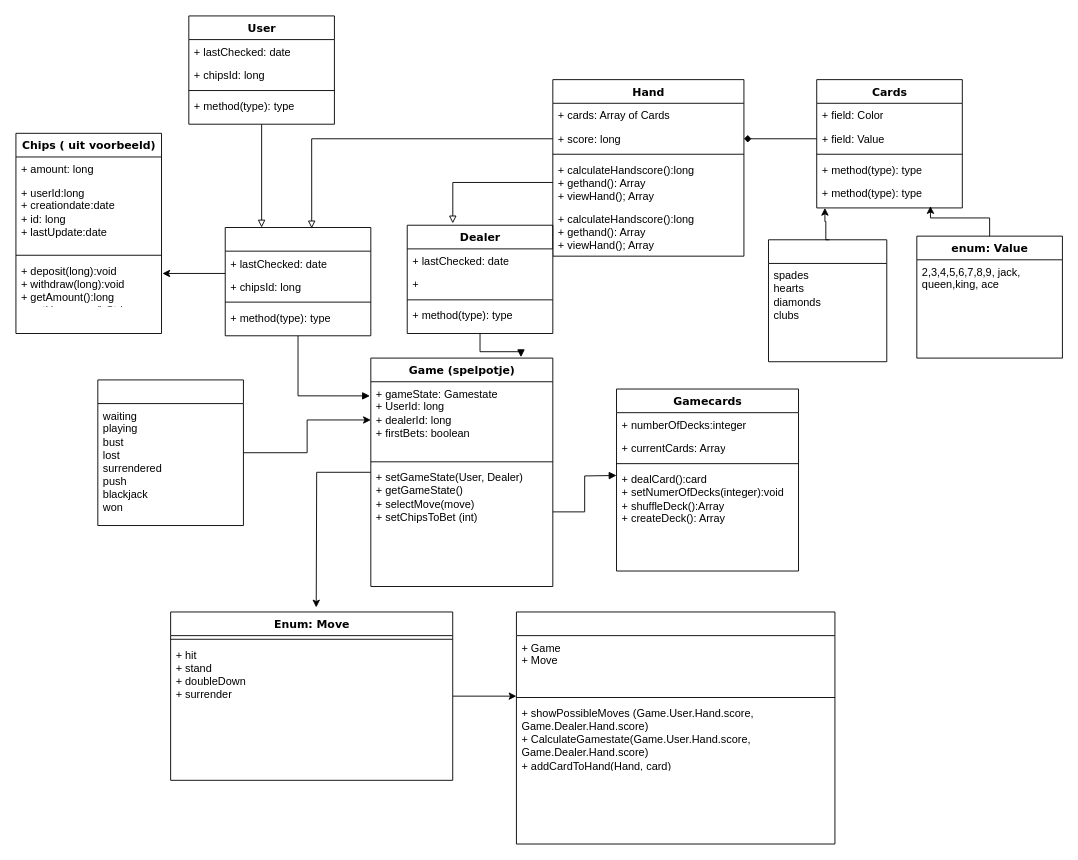
Some shapes in this 1078 by 860 pixel diagram are drawn without their labels. Each missing label, with the box of its shape:
enum: Gamestate: (97, 379, 243, 526)
enum: Kleur: (768, 239, 887, 362)
MoveChecker: (516, 611, 835, 844)
Player: (224, 227, 371, 336)
